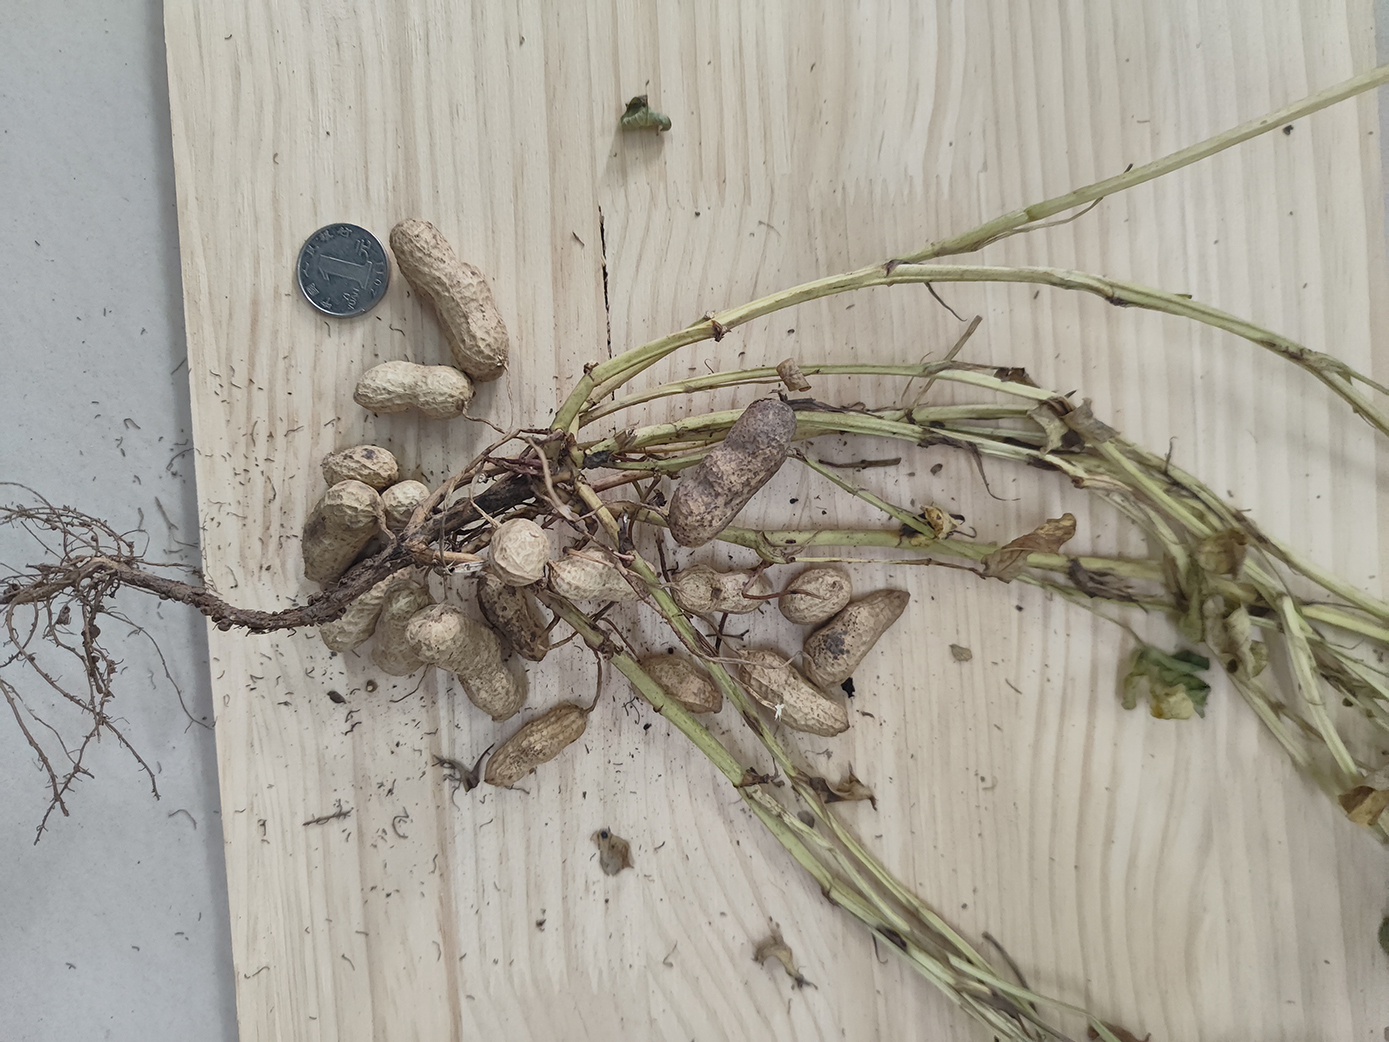h: (390, 218, 510, 381), (669, 398, 797, 548), (407, 605, 523, 722), (805, 591, 912, 688), (741, 650, 850, 737), (484, 705, 587, 787), (321, 558, 409, 651), (302, 481, 383, 582), (354, 361, 475, 418), (477, 574, 548, 662), (628, 655, 724, 718), (549, 549, 660, 603), (372, 582, 427, 678), (672, 566, 772, 616), (485, 519, 549, 584), (778, 569, 853, 625), (322, 445, 400, 493), (380, 481, 429, 534)
